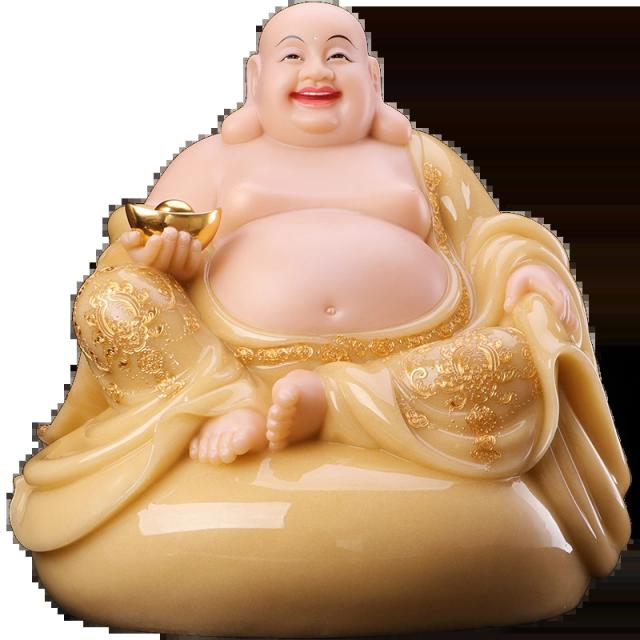Smiling Buddha: (112, 0, 522, 459)
